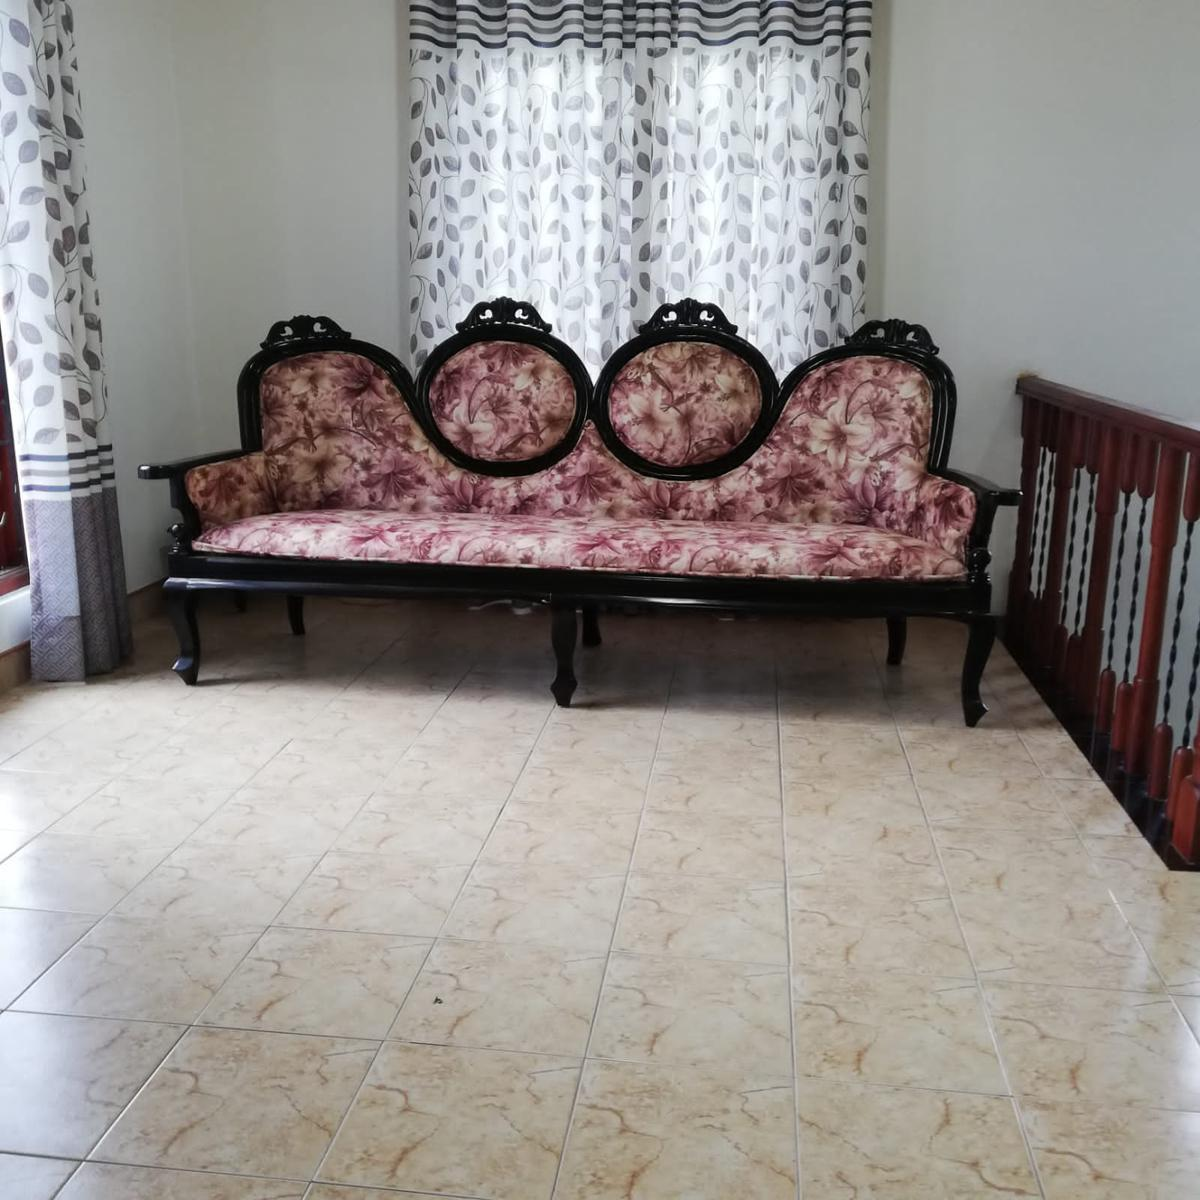Sofa: (138, 312, 1024, 720)
